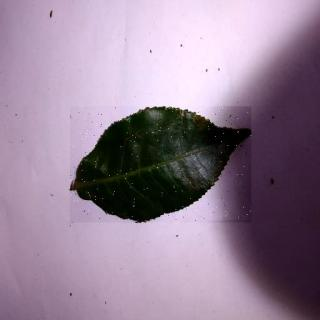Bird Eye Spot: (71, 108, 252, 224)
